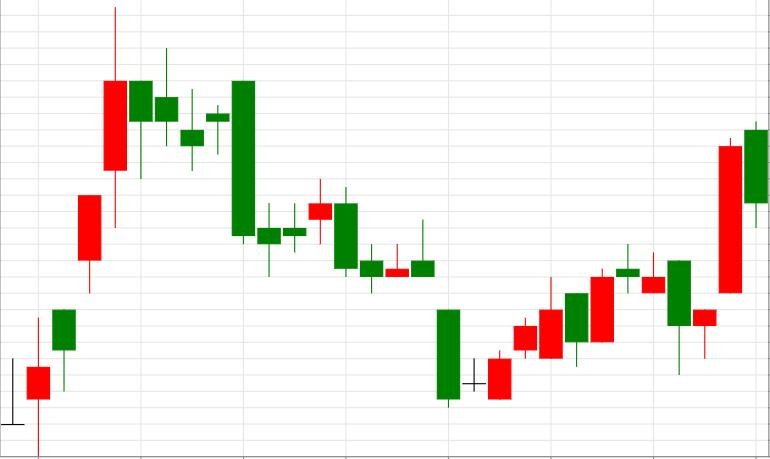hanging_man_fall: (0, 6, 152, 457)
